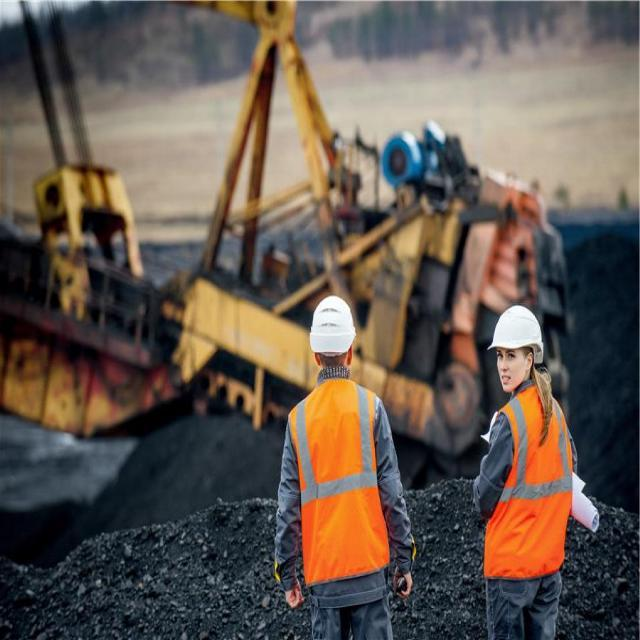Helmet: (488, 305, 550, 392)
Vest: (277, 382, 414, 580), (474, 391, 584, 576)
